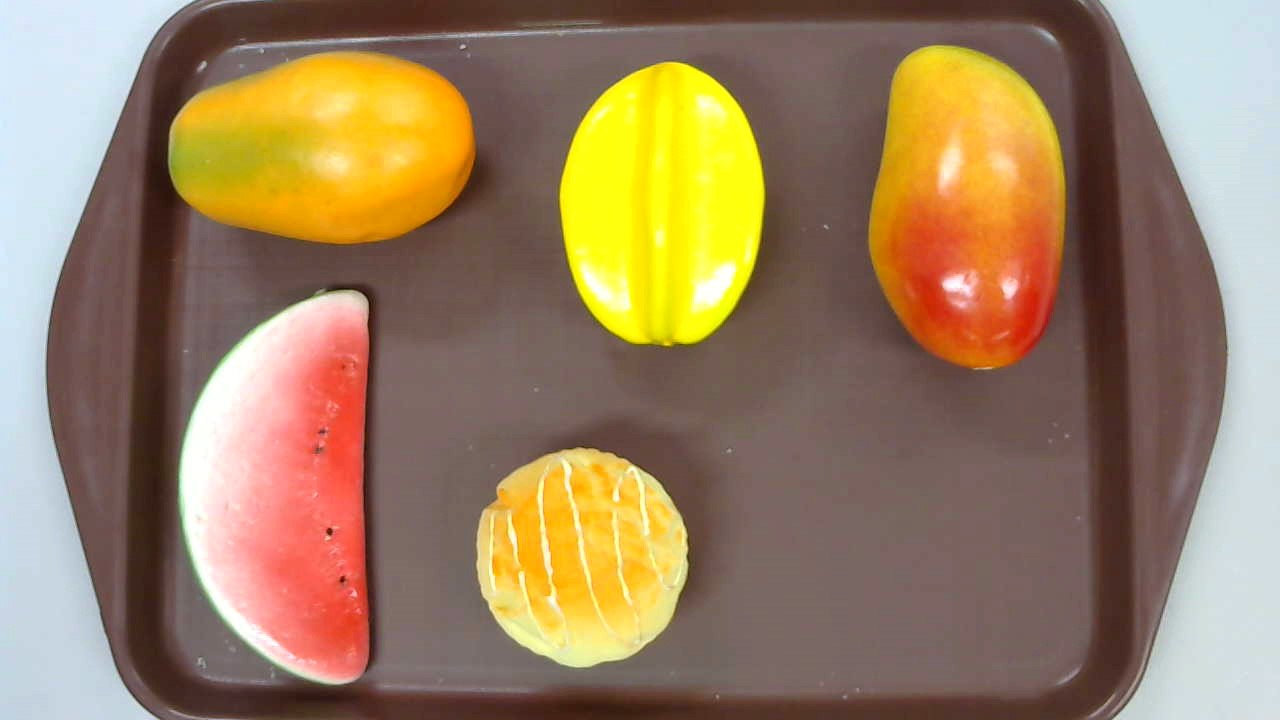cupcake: (474, 447, 690, 668)
papya: (166, 50, 475, 245)
red mango: (867, 44, 1066, 370)
star fruit: (558, 62, 765, 346)
water melon: (178, 289, 368, 685)
